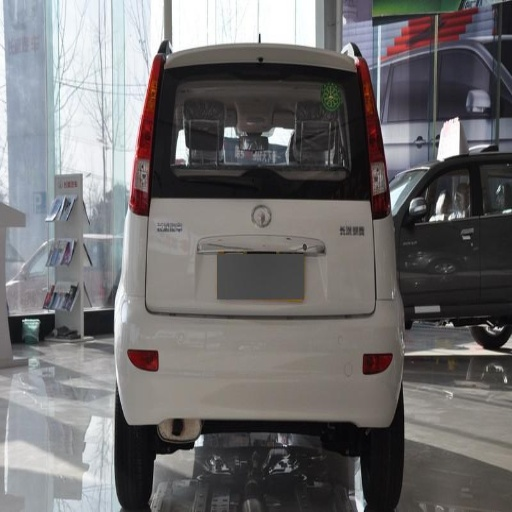back_bumper: (116, 292, 395, 433)
back_glass: (161, 64, 361, 194)
tailgate: (227, 249, 371, 317)
trunk: (131, 178, 390, 359)
